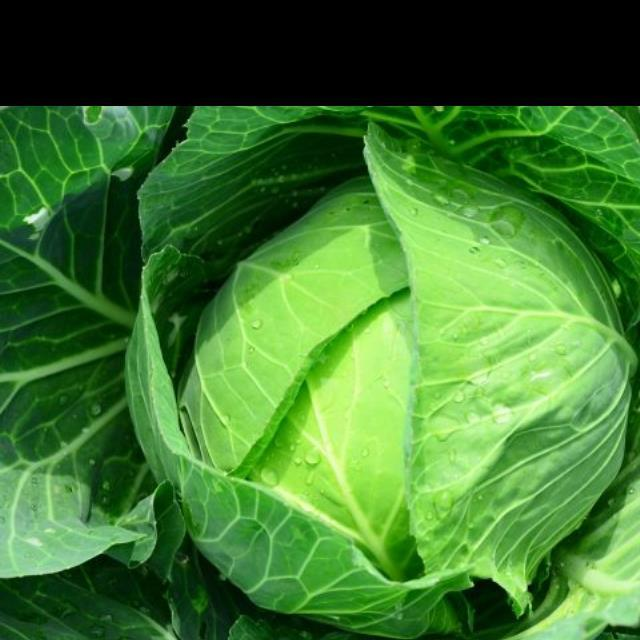cabbage: (170, 160, 628, 634)
